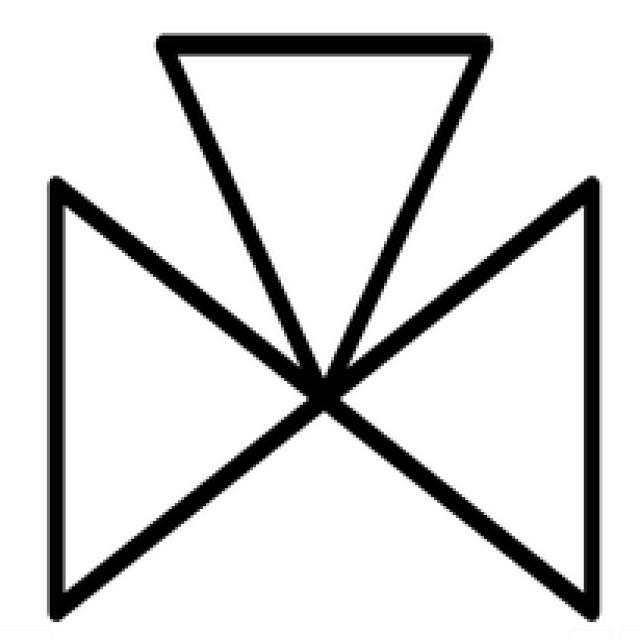3-way Valve: (54, 38, 483, 614), (329, 188, 594, 617)
